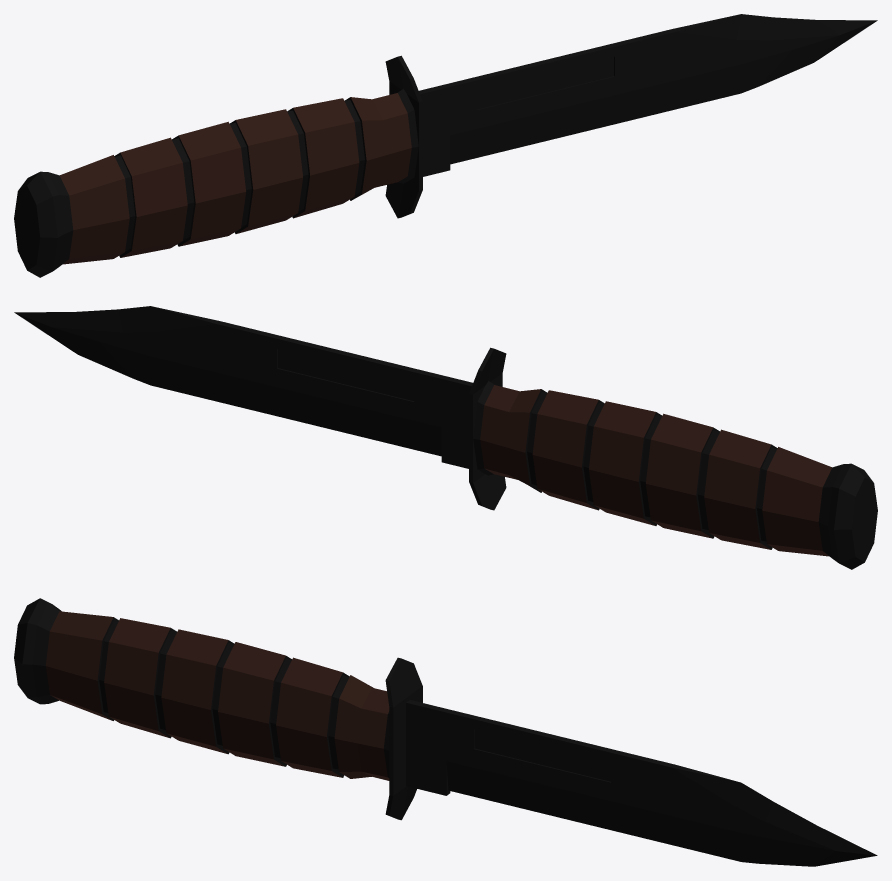
File: BayonetteLP.fbx
3 views of the same model, one above another, from view 1: azimuth 30°, elevation 25°; view 2: azimuth 150°, elevation 25°; view 3: azimuth 330°, elevation 25° (orthographic).
Visible parts, largest first — view 1: KA BAR; view 2: KA BAR; view 3: KA BAR.
Boxes of the visible parts, left/top/right/bottom form: KA BAR: left=14, top=14, right=877, bottom=277; KA BAR: left=14, top=306, right=877, bottom=569; KA BAR: left=14, top=598, right=877, bottom=866.
Size of the model in its own units: 30.22 by 5.49 by 2.19.
